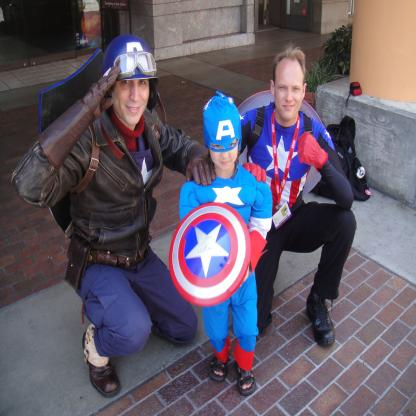Helmet: (100, 33, 167, 155)
